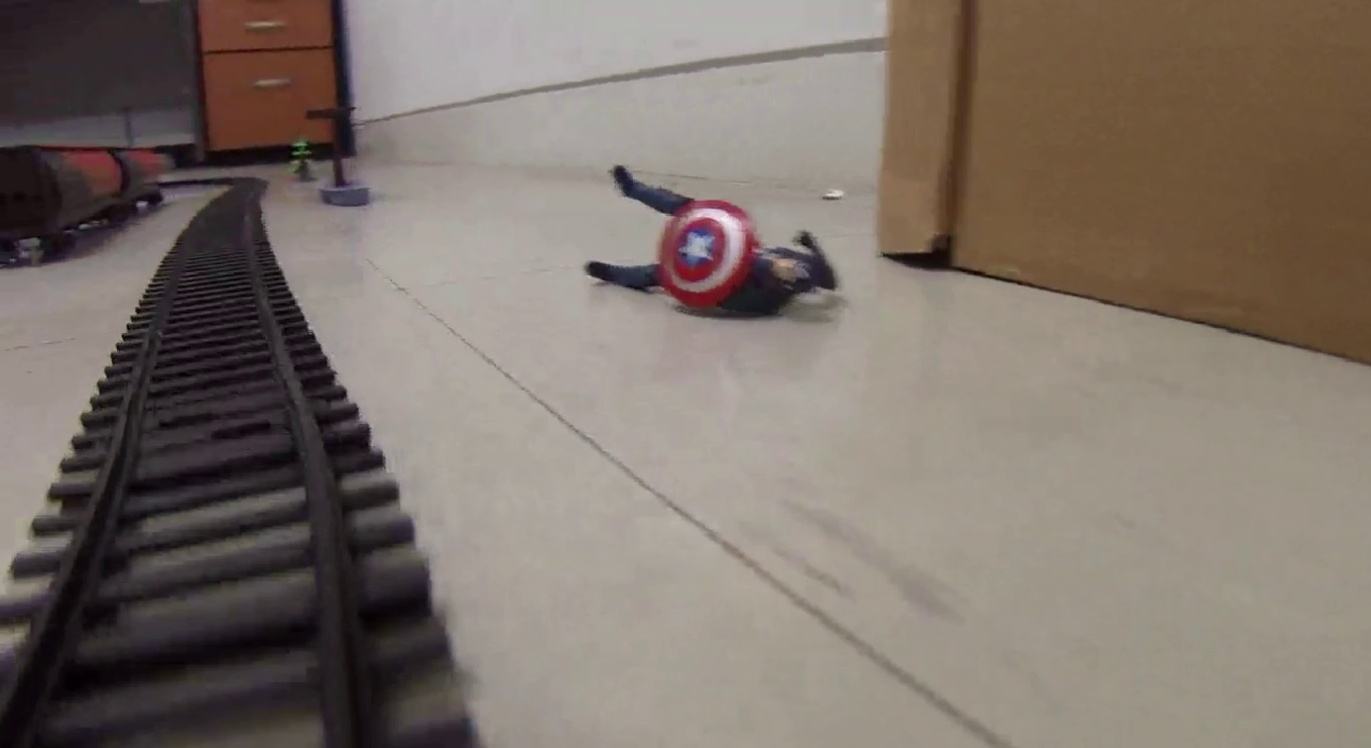people: (584, 165, 841, 319)
